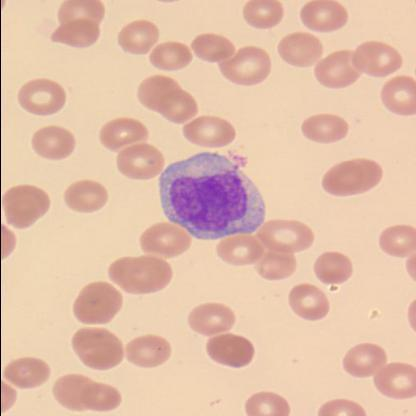Promyelocyte: (155, 152, 267, 240)
